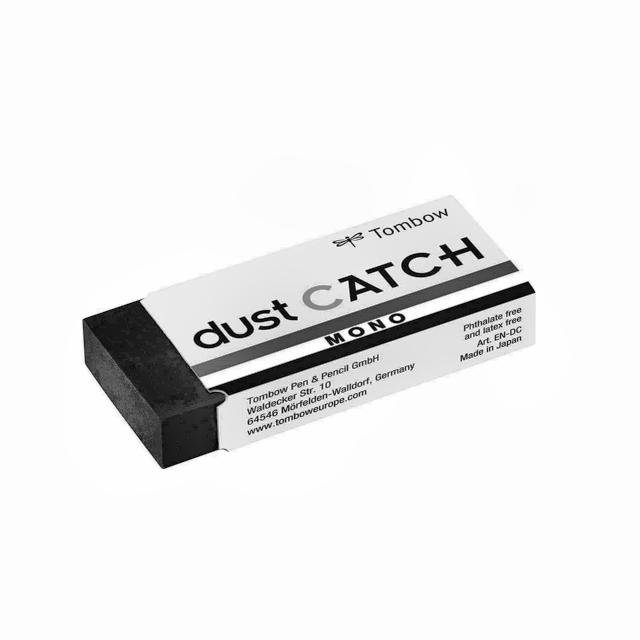eraser: (74, 191, 542, 479)
